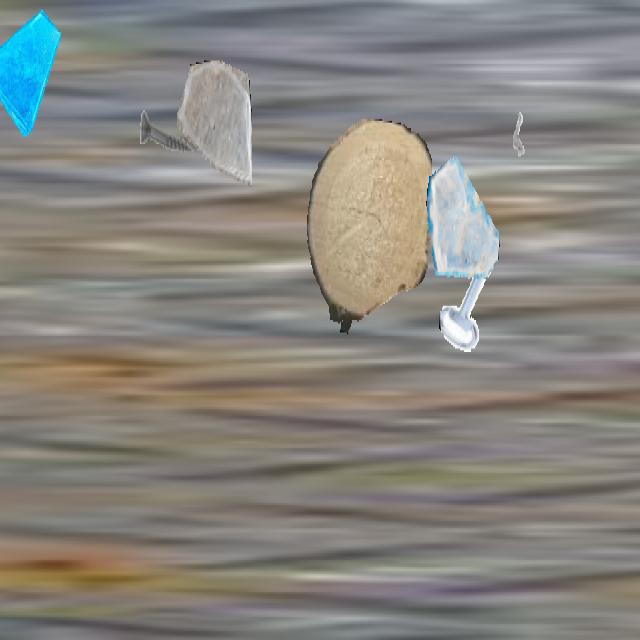glass: (177, 60, 251, 192), (426, 151, 500, 283), (0, 2, 60, 137)
metal: (138, 76, 200, 186), (439, 247, 501, 357), (500, 92, 538, 160), (634, 516, 640, 622)
wood: (307, 119, 431, 336)
